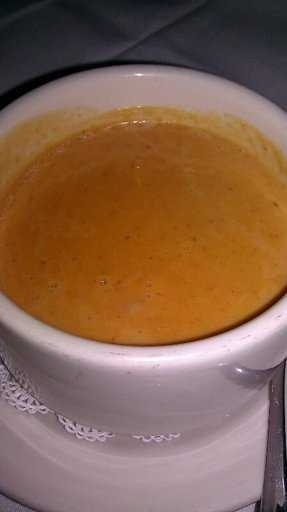soup: (10, 64, 268, 388)
